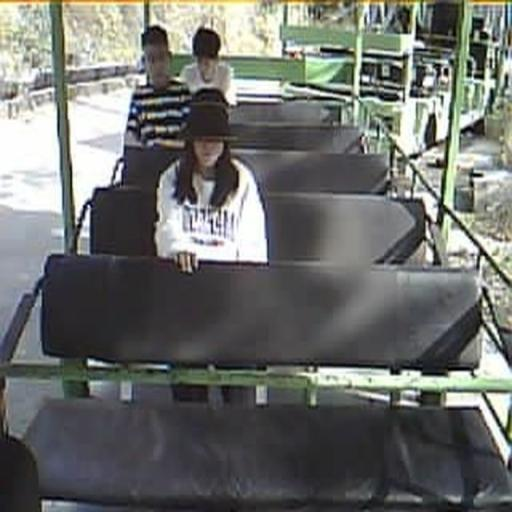persona: (152, 89, 270, 274), (122, 24, 194, 179), (179, 26, 237, 106)
